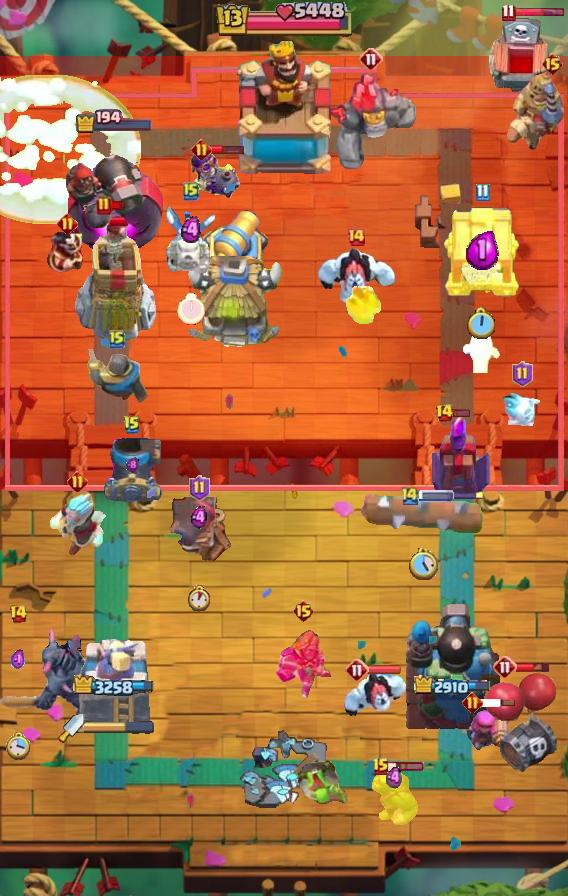bar: (77, 637, 151, 731)
bar-level: (297, 759, 351, 807)
bat: (460, 333, 502, 373), (501, 392, 543, 428)
bomb: (442, 204, 522, 298)
cannoneer-tower: (324, 72, 418, 172)
clock: (213, 2, 355, 40)
electro-spirit: (466, 230, 499, 271), (181, 216, 201, 244), (191, 506, 207, 530), (386, 766, 402, 790), (11, 649, 25, 671), (125, 457, 138, 473)
elixir: (467, 307, 497, 341), (177, 293, 205, 325), (410, 548, 438, 580), (5, 731, 30, 760), (188, 585, 213, 612)
elixir-golem-mid: (486, 17, 556, 103)
emote: (513, 7, 565, 18), (388, 761, 425, 773), (418, 490, 454, 502), (517, 661, 552, 673), (366, 665, 402, 676), (210, 145, 245, 156), (480, 698, 516, 708), (452, 408, 471, 418), (109, 201, 126, 212)
firecracker: (85, 349, 149, 404)
flying-machine: (366, 767, 422, 825)
goblin-ball: (189, 148, 241, 202)
golemite: (0, 626, 96, 718)
ice-spirit-evolution-symbol: (427, 414, 491, 502)
king-tower: (228, 41, 340, 181)
king-tower-bar: (84, 721, 154, 735)
lumberjack: (46, 229, 88, 277)
mini-pekka: (164, 204, 218, 276)
minion: (361, 493, 485, 533)
mortar: (48, 492, 106, 558)
musketeer: (102, 438, 162, 502)
phoenix-big: (0, 76, 142, 225)
prince: (183, 256, 285, 352)
rage: (315, 248, 397, 306), (340, 668, 410, 720)
ram-rider: (502, 70, 568, 152)
royal-giant-evolution: (165, 497, 233, 567)
royal-recruit: (198, 204, 276, 294)
royal-recruit-evolution: (484, 671, 562, 777)
selected: (72, 673, 155, 699), (74, 110, 154, 135), (414, 674, 492, 698)
tesla-evolution: (274, 627, 332, 701)
text: (359, 47, 383, 71), (540, 52, 564, 76), (493, 655, 517, 679), (345, 658, 369, 682), (292, 599, 315, 623), (511, 361, 532, 387), (190, 475, 211, 501), (57, 213, 78, 235), (67, 471, 89, 492), (462, 691, 483, 713), (192, 140, 213, 161), (400, 485, 420, 506), (346, 227, 366, 247), (434, 403, 454, 423), (8, 604, 28, 624), (123, 415, 141, 435), (372, 757, 390, 777), (183, 181, 199, 201), (96, 196, 112, 216), (109, 329, 125, 349), (475, 183, 490, 202), (501, 3, 515, 21)
tombstone: (461, 701, 511, 755)
tower-bar: (403, 601, 503, 731), (64, 138, 164, 256)
valkyrie: (340, 286, 386, 328)
zappy: (70, 202, 158, 346)
